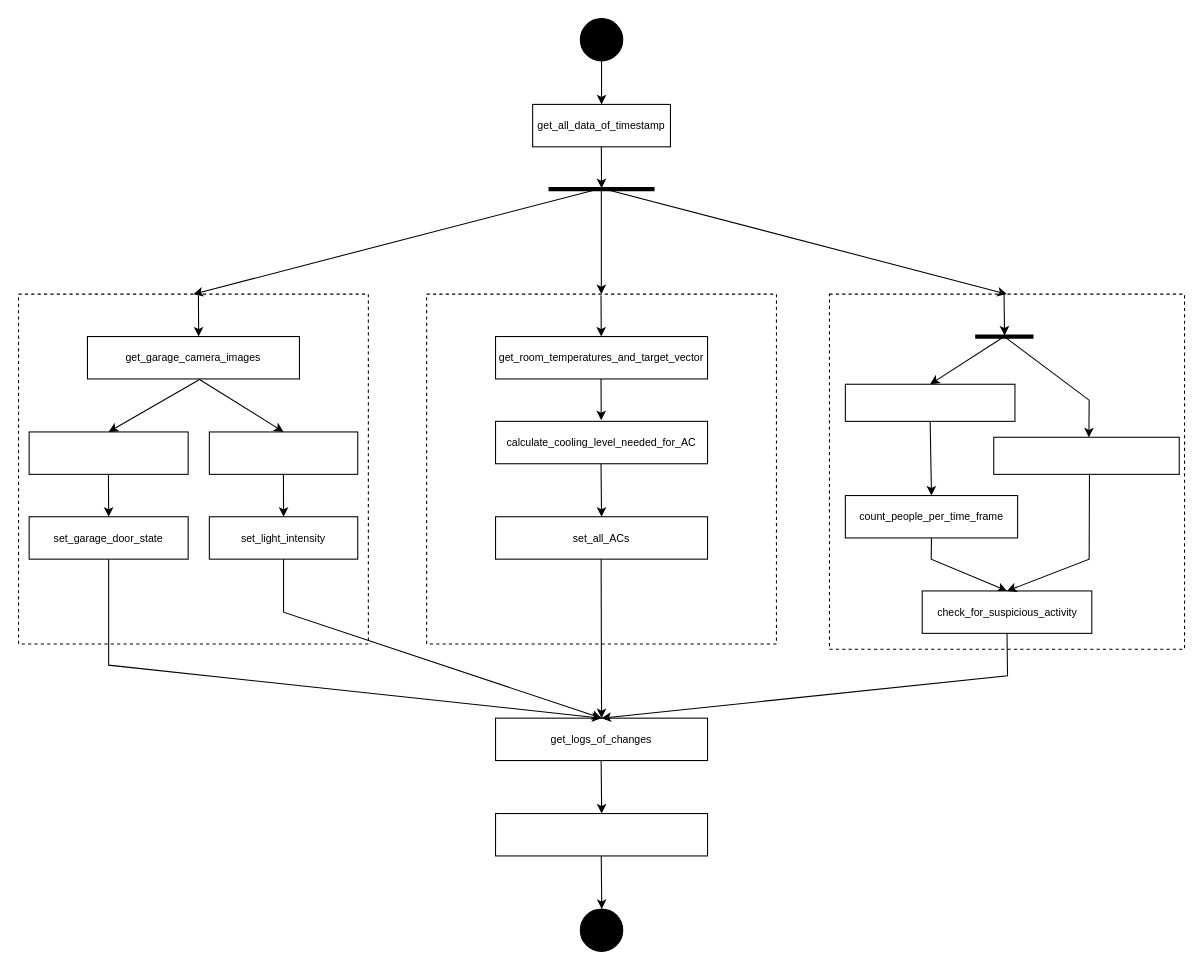
The diagram is 1203 pixels wide and 970 high, and some of its shapes have lost their labels. The shapes that lost their labels are listed below. From the top down, each one's box as (x1, y1, x2, y2) in pixels, then its label:
(844, 383, 1015, 421): get_exterior_camera_images
(28, 431, 188, 474): detect_vehicles
(208, 431, 358, 474): get_light_intensity
(993, 436, 1179, 474): get_suspicious_activity_time_config
(494, 812, 708, 856): collect_logs_in_data_structure
